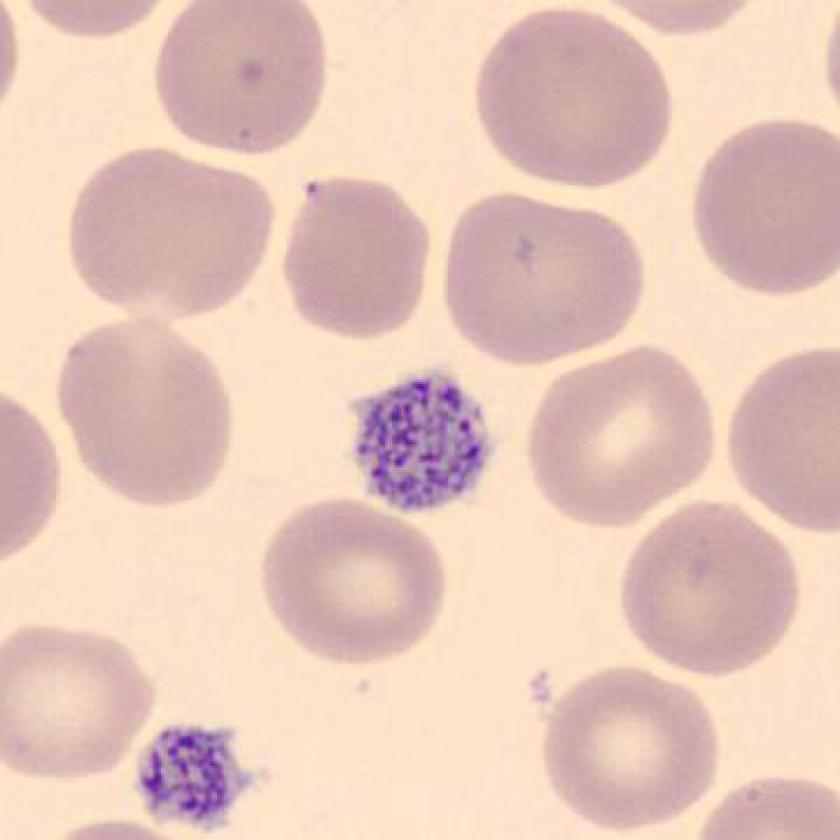platelets: (346, 367, 503, 522), (127, 721, 260, 832)
